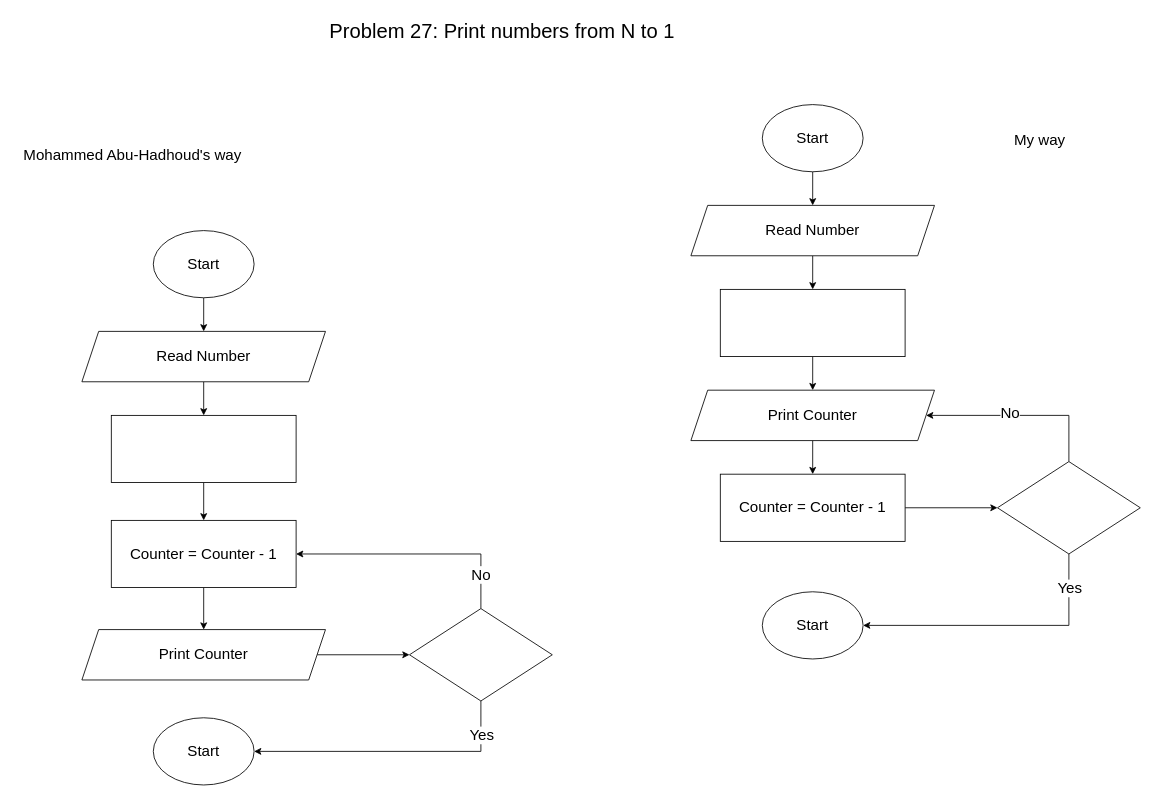
This 1155x800 diagram has some shape labels left out. The centre of each missing label's shape, as x and y in pixels:
Counter < 1: the point at 1068,507
Counter = 1: the point at 480,654
Counter = Number: the point at 812,323
Counter = Number + 1: the point at 203,449
